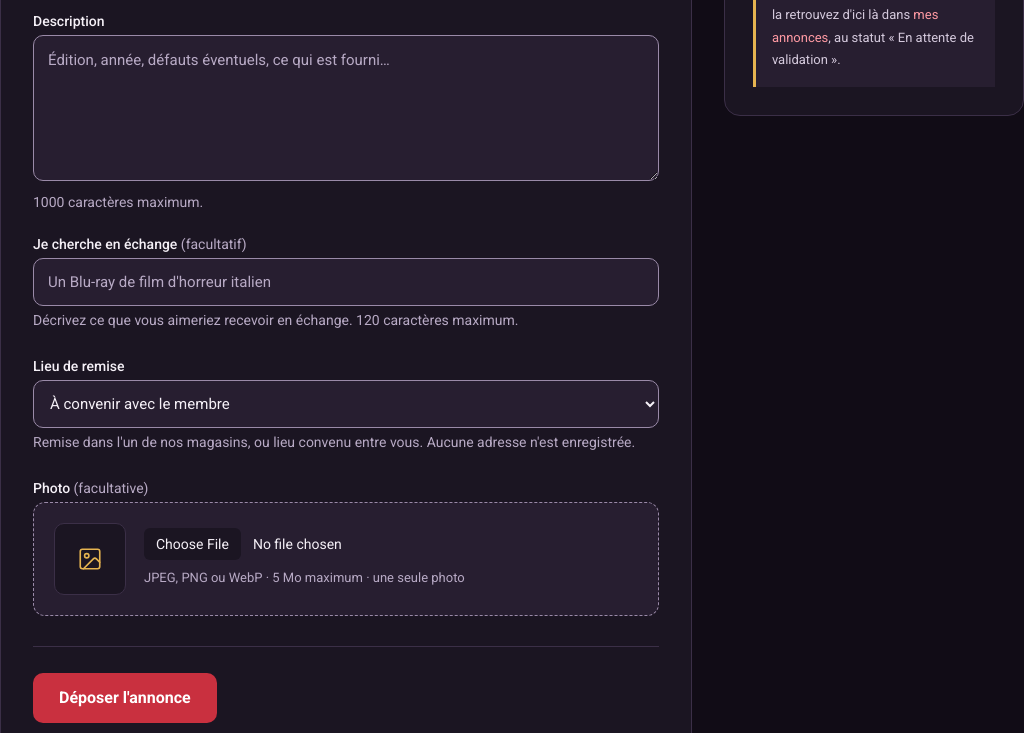
Test: ListingForm › erreurs › n'affiche pas de liste quand l'API renvoie une erreur sans détail
(page scrolled)
Click the button "Déposer l'annonce" at [125, 698], box [33,672,217,722]
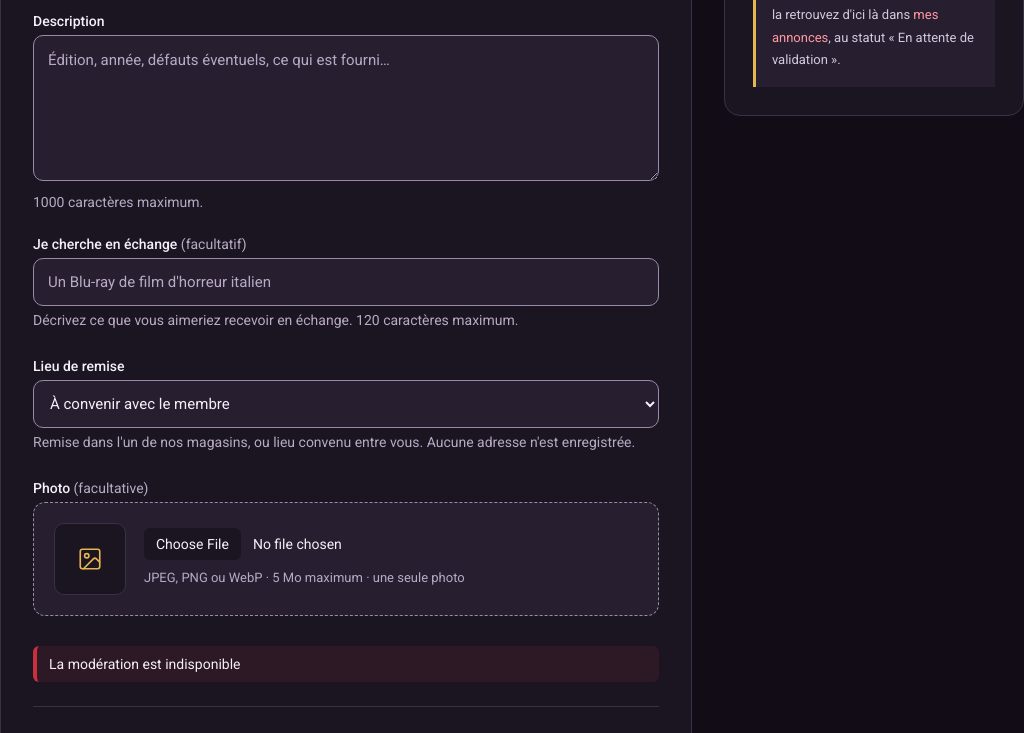
Check: the message reads "La modération est indisponible", box [49,656,240,672]
